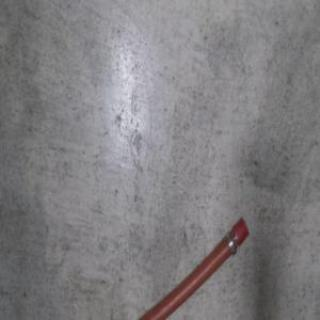Hosetrack_idkeyframe: (123, 213, 250, 319)
